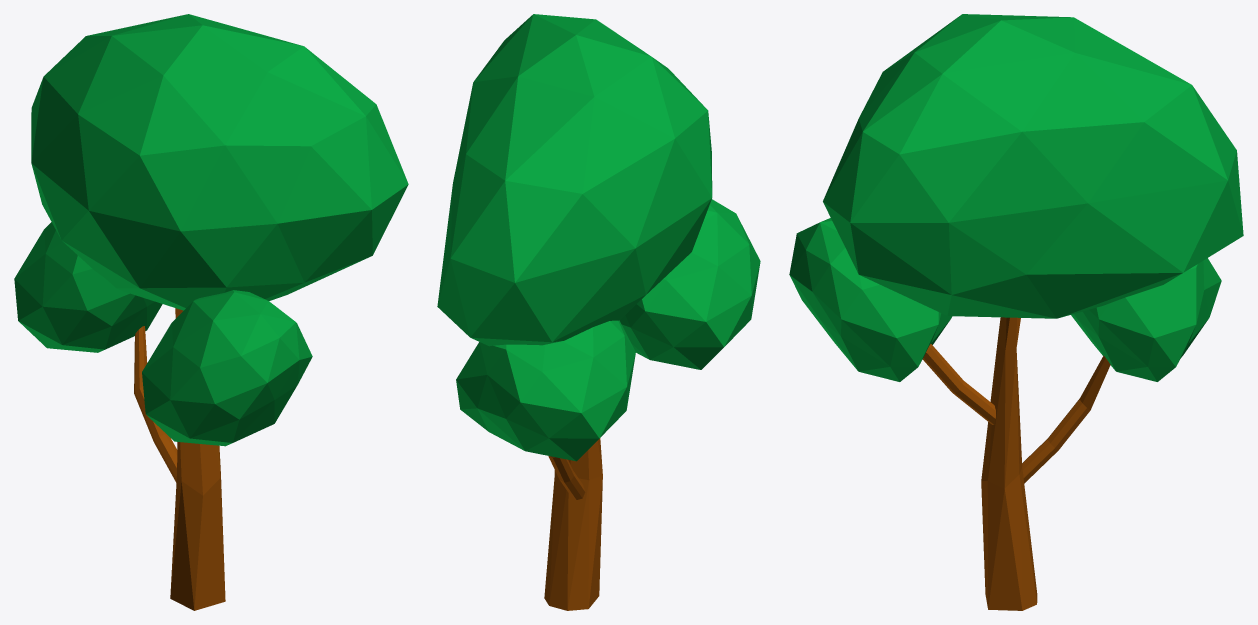
File: tree_2.fbx
3 renders of one model, left to right at view 1: azimuth 30°, elevation 25°; view 2: azimuth 150°, elevation 25°; view 3: azimuth 270°, elevation 25°, orthographic. The views are drawn at different scales.
Visible parts, largest first — view 1: Circle.001; view 2: Circle.001; view 3: Circle.001.
Boxes of the visible parts, box(x1,y1,x2,y2) form: Circle.001: box(14, 14, 408, 610); Circle.001: box(437, 14, 760, 610); Circle.001: box(789, 14, 1243, 610).
Size of the model in its own units: 669 by 1427 by 1010.
